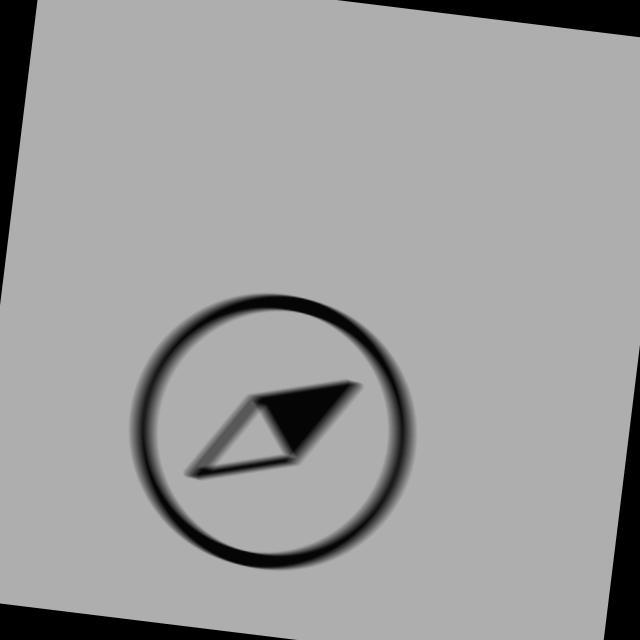compass: (104, 272, 439, 597)
